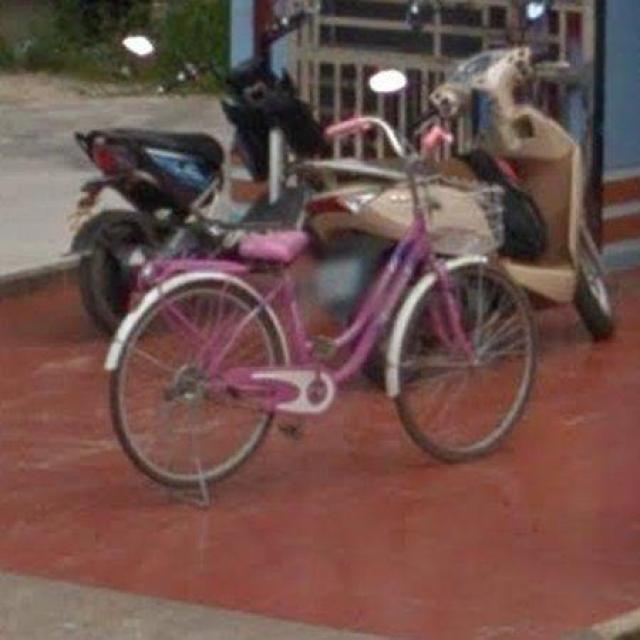bicycle: (92, 103, 552, 519)
motorcycle: (330, 6, 631, 348), (53, 16, 346, 305)
